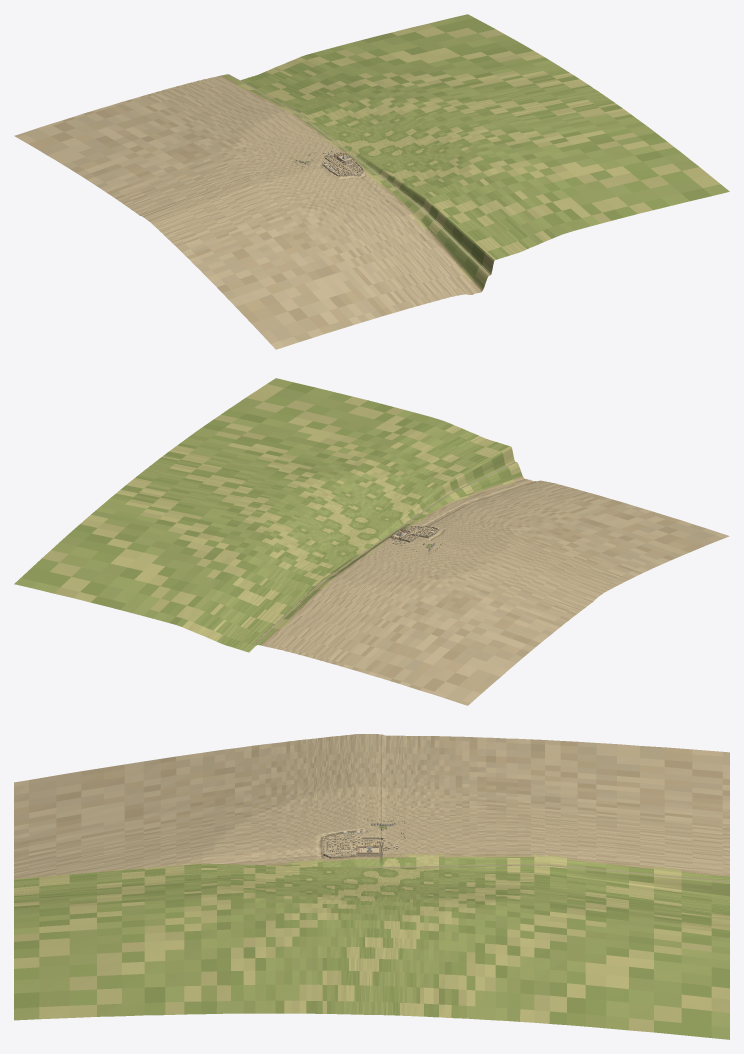
File: jerusalem_maquete.glb
The picture shows the model from 3 angles, top to bottom: view 1: azimuth 30°, elevation 25°; view 2: azimuth 150°, elevation 25°; view 3: azimuth 270°, elevation 25°; orthographic projection. The views are drawn at different scales.
Visible parts, largest first — view 1: Cidade_Chao, Leste_Chao, Vale_Chao; view 2: Leste_Chao, Cidade_Chao, Vale_Chao; view 3: Leste_Chao, Cidade_Chao, Vale_Chao, Vale_Miolo, Casas_Cidade.
Boxes of the visible parts, bbox=[...] form: Cidade_Chao: bbox=[14, 76, 481, 349]; Leste_Chao: bbox=[260, 14, 729, 251]; Vale_Chao: bbox=[220, 74, 521, 292]; Leste_Chao: bbox=[14, 378, 483, 643]; Cidade_Chao: bbox=[263, 478, 729, 705]; Vale_Chao: bbox=[222, 438, 525, 652]; Leste_Chao: bbox=[14, 878, 729, 1039]; Cidade_Chao: bbox=[14, 734, 729, 878]; Vale_Chao: bbox=[14, 854, 729, 913]; Vale_Miolo: bbox=[361, 854, 390, 881]; Casas_Cidade: bbox=[326, 833, 397, 856].
Size of the model in its own units: 2200 by 270 by 2200.
